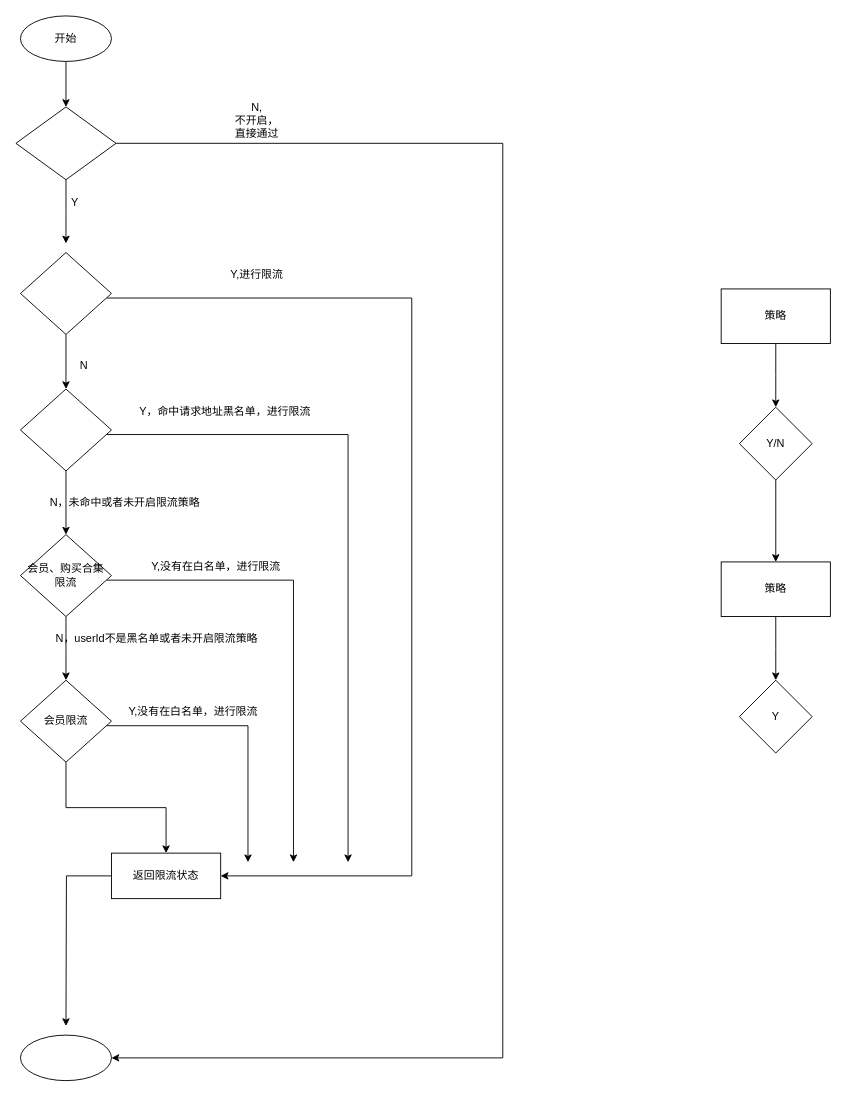
The diagram is 846 pixels wide and 1097 high, and some of its shapes have lost their labels. The shapes that lost their labels are listed below. From the top down, each one's centre as x and y in pixels, then its label:
the point at 65,143: 开启限流
the point at 65,293: 第三方故障限流
the point at 65,429: 用户行为限流
the point at 65,1057: 结束
